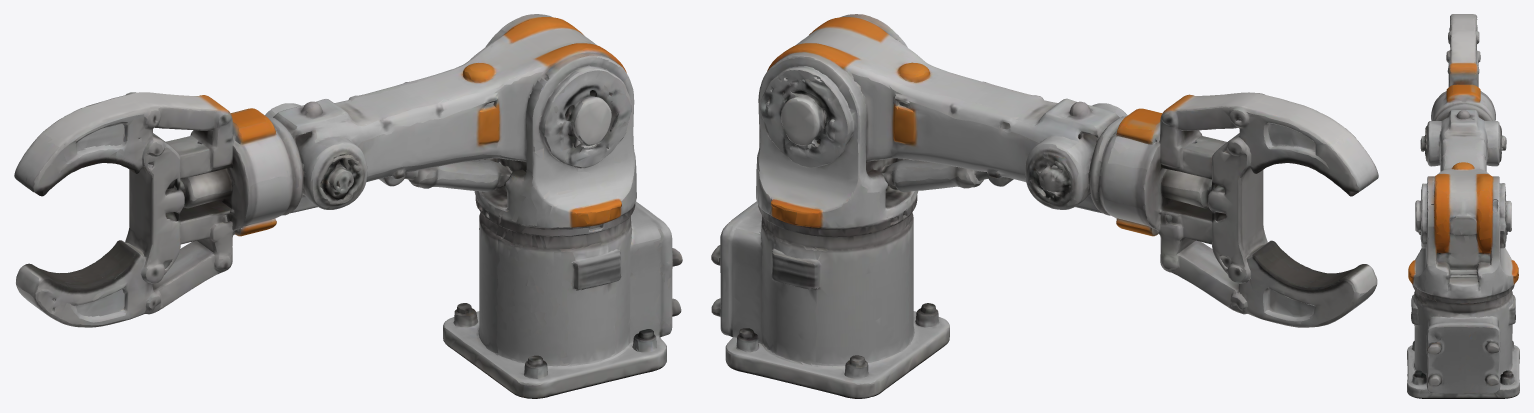
3 renders of one model, left to right at view 1: azimuth 30°, elevation 25°; view 2: azimuth 150°, elevation 25°; view 3: azimuth 270°, elevation 25°, orthographic. The views are drawn at different scales.
Visible parts, largest first — view 1: geometry_0; view 2: geometry_0; view 3: geometry_0.
Boxes of the visible parts, x1,y1,x2,y2 form: geometry_0: (14, 14, 682, 398); geometry_0: (711, 14, 1378, 398); geometry_0: (1407, 14, 1519, 398).
Bounding box in the file's own units: 0.85 × 0.4554 × 0.2119.
Materials: 1 (1 with a texture image).
